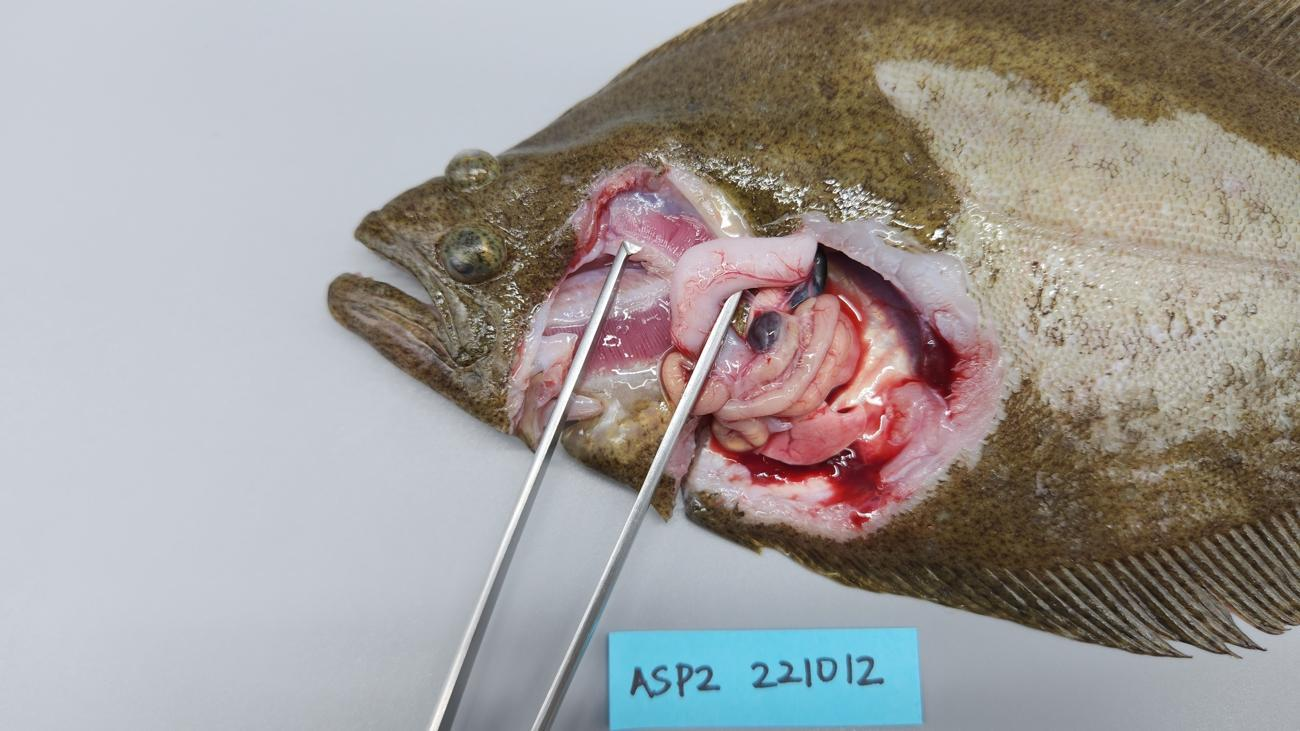SPINI: (712, 408, 769, 450)
